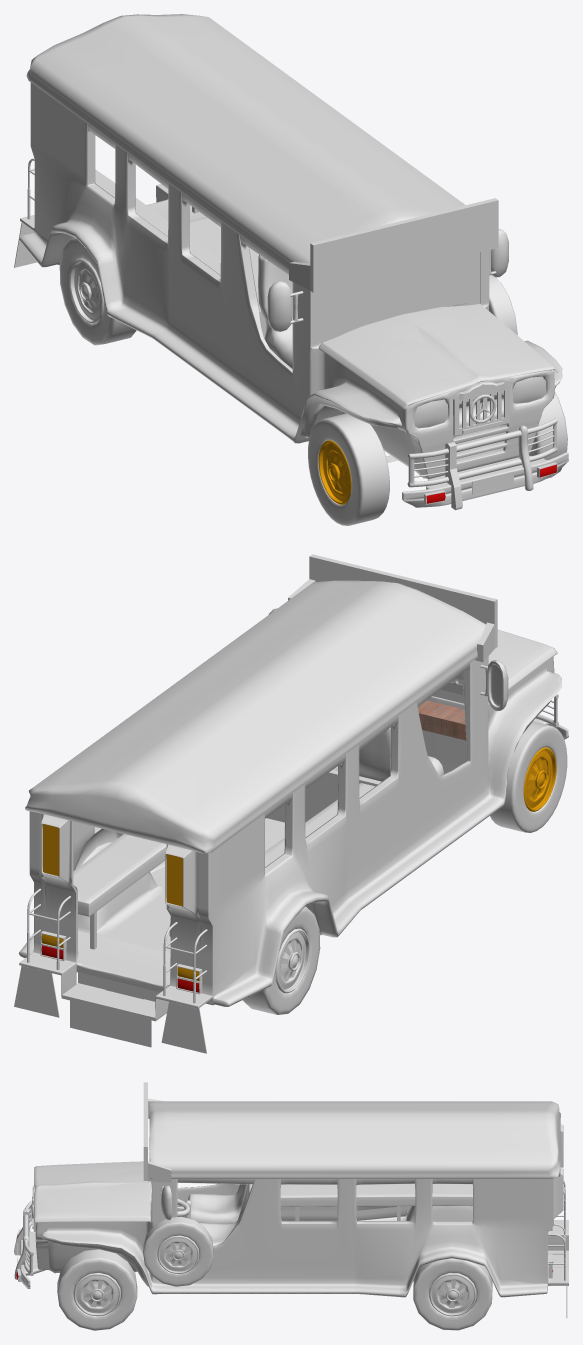
Rendered from PDMjeep.fbx.
The picture shows the model from 3 angles, top to bottom: view 1: azimuth 30°, elevation 25°; view 2: azimuth 150°, elevation 25°; view 3: azimuth 270°, elevation 25°; orthographic projection. The views are drawn at different scales.
Parts seen in each view (by area): view 1: pCube54; view 2: pCube54; view 3: pCube54.
Boxes of the visible parts, box(x1,y1,x2,y2) form: pCube54: box(14, 14, 568, 525); pCube54: box(14, 554, 568, 1053); pCube54: box(14, 1082, 568, 1330).
Size of the model in its own units: 69.75 by 70.45 by 195.
